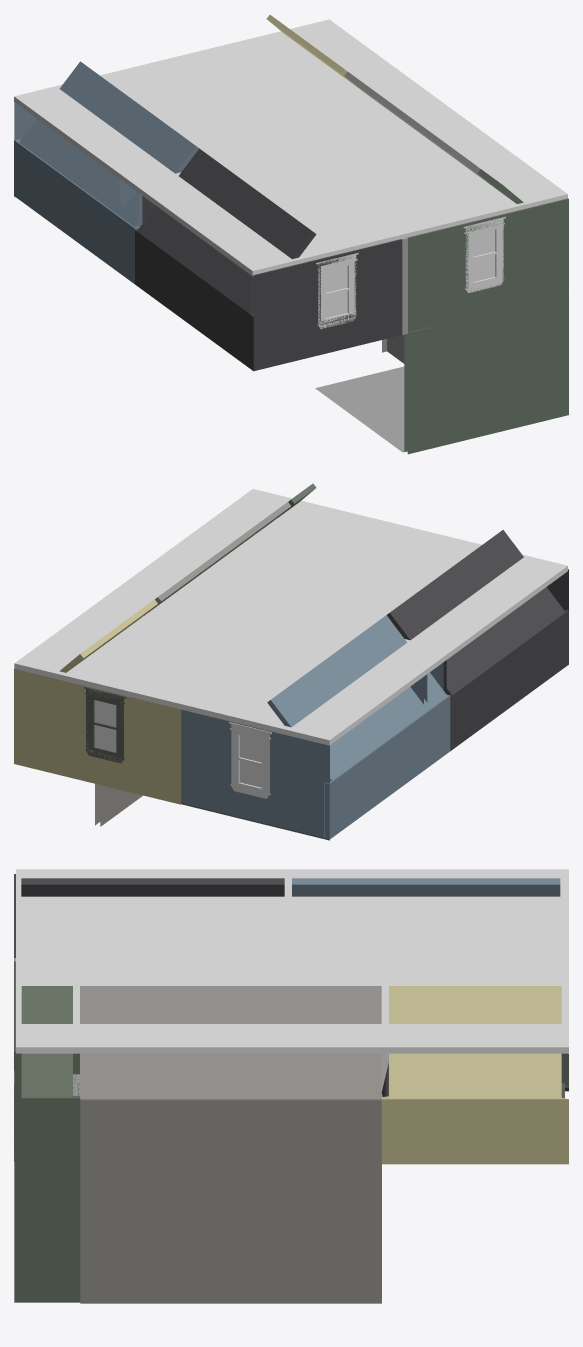
File: FullColour.fbx
The picture shows the model from 3 angles, top to bottom: view 1: azimuth 30°, elevation 25°; view 2: azimuth 150°, elevation 25°; view 3: azimuth 270°, elevation 25°; orthographic projection. The views are drawn at different scales.
Visible parts, largest first — view 1: polySurface95; view 2: polySurface95; view 3: polySurface95.
Boxes of the visible parts, x1,y1,x2,y2 form: polySurface95: (14, 15, 568, 454); polySurface95: (14, 483, 568, 840); polySurface95: (14, 869, 568, 1303).
Size of the model in its own units: 27.47 by 22.58 by 36.11.
